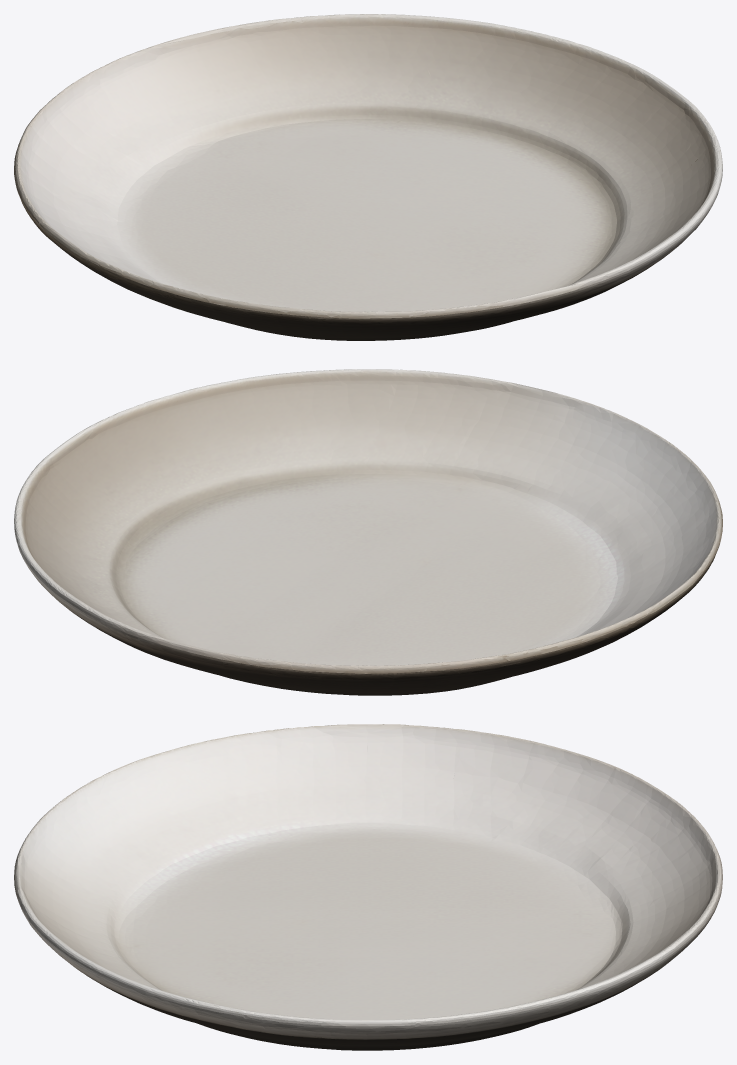
The model's file is plate.fbx.
3 views of the same model, one above another, from view 1: azimuth 30°, elevation 25°; view 2: azimuth 150°, elevation 25°; view 3: azimuth 270°, elevation 25° (orthographic).
Visible parts, largest first — view 1: world; view 2: world; view 3: world.
Boxes of the visible parts, box(x1,y1,x2,y2) form: world: box(14, 14, 722, 340); world: box(14, 369, 722, 695); world: box(14, 724, 722, 1050).
Bounding box in the file's own units: 100 × 11.78 × 100.
